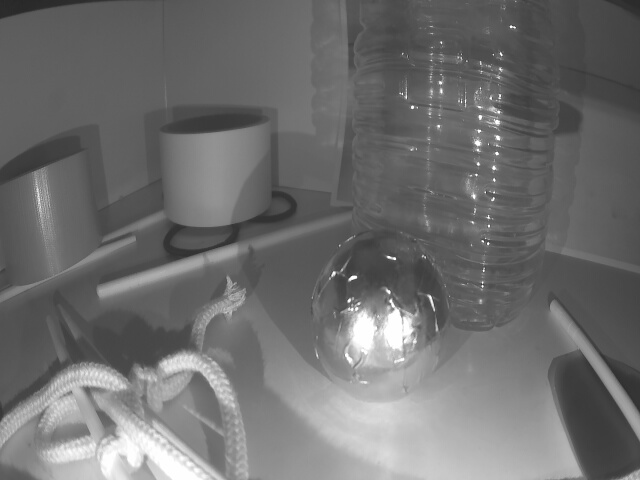Live: (315, 226, 452, 398)
